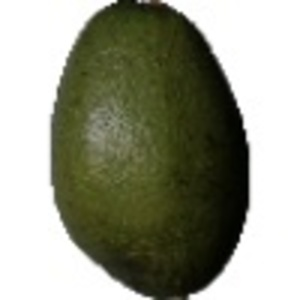abacate: (39, 3, 256, 300)
